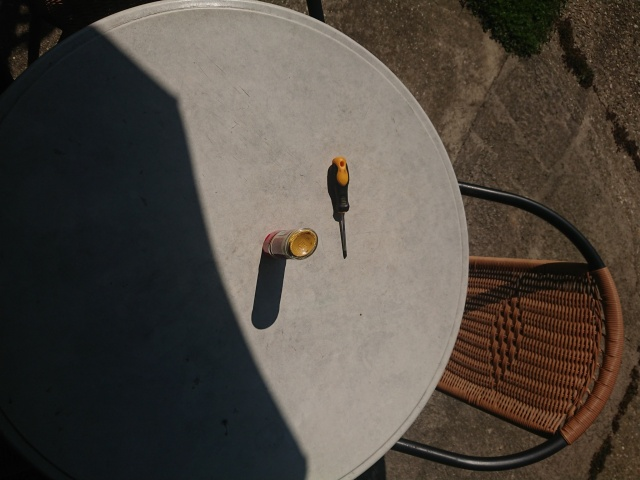Kotanyi Curry Spices Mix 70g: (260, 226, 320, 261)
